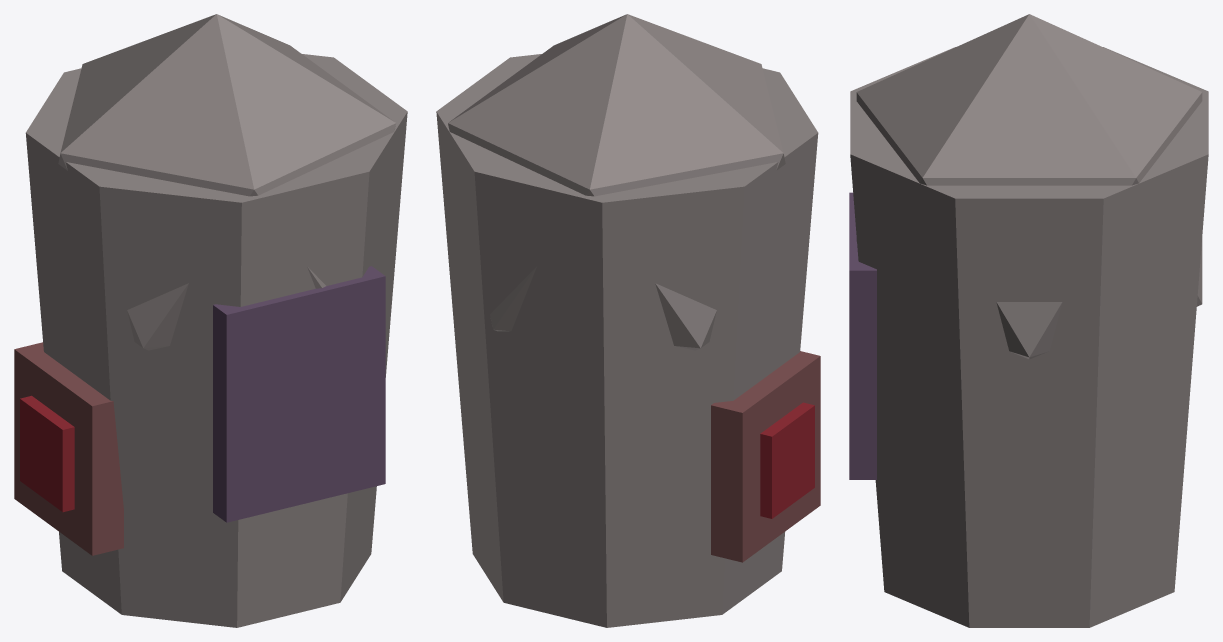
The model's file is inf_v2_walker_lower_leg_r.fbx.
3 views of the same model, side by side, from view 1: azimuth 30°, elevation 25°; view 2: azimuth 150°, elevation 25°; view 3: azimuth 270°, elevation 25° (orthographic).
Visible parts, largest first — view 1: inf_v2_walker_lower_leg_r; view 2: inf_v2_walker_lower_leg_r; view 3: inf_v2_walker_lower_leg_r.
Boxes of the visible parts, x1,y1,x2,y2 form: inf_v2_walker_lower_leg_r: (14,14,407,627); inf_v2_walker_lower_leg_r: (436,14,820,627); inf_v2_walker_lower_leg_r: (849,14,1208,627).
Bounding box in the file's own units: 82.35 × 132 × 77.8.
